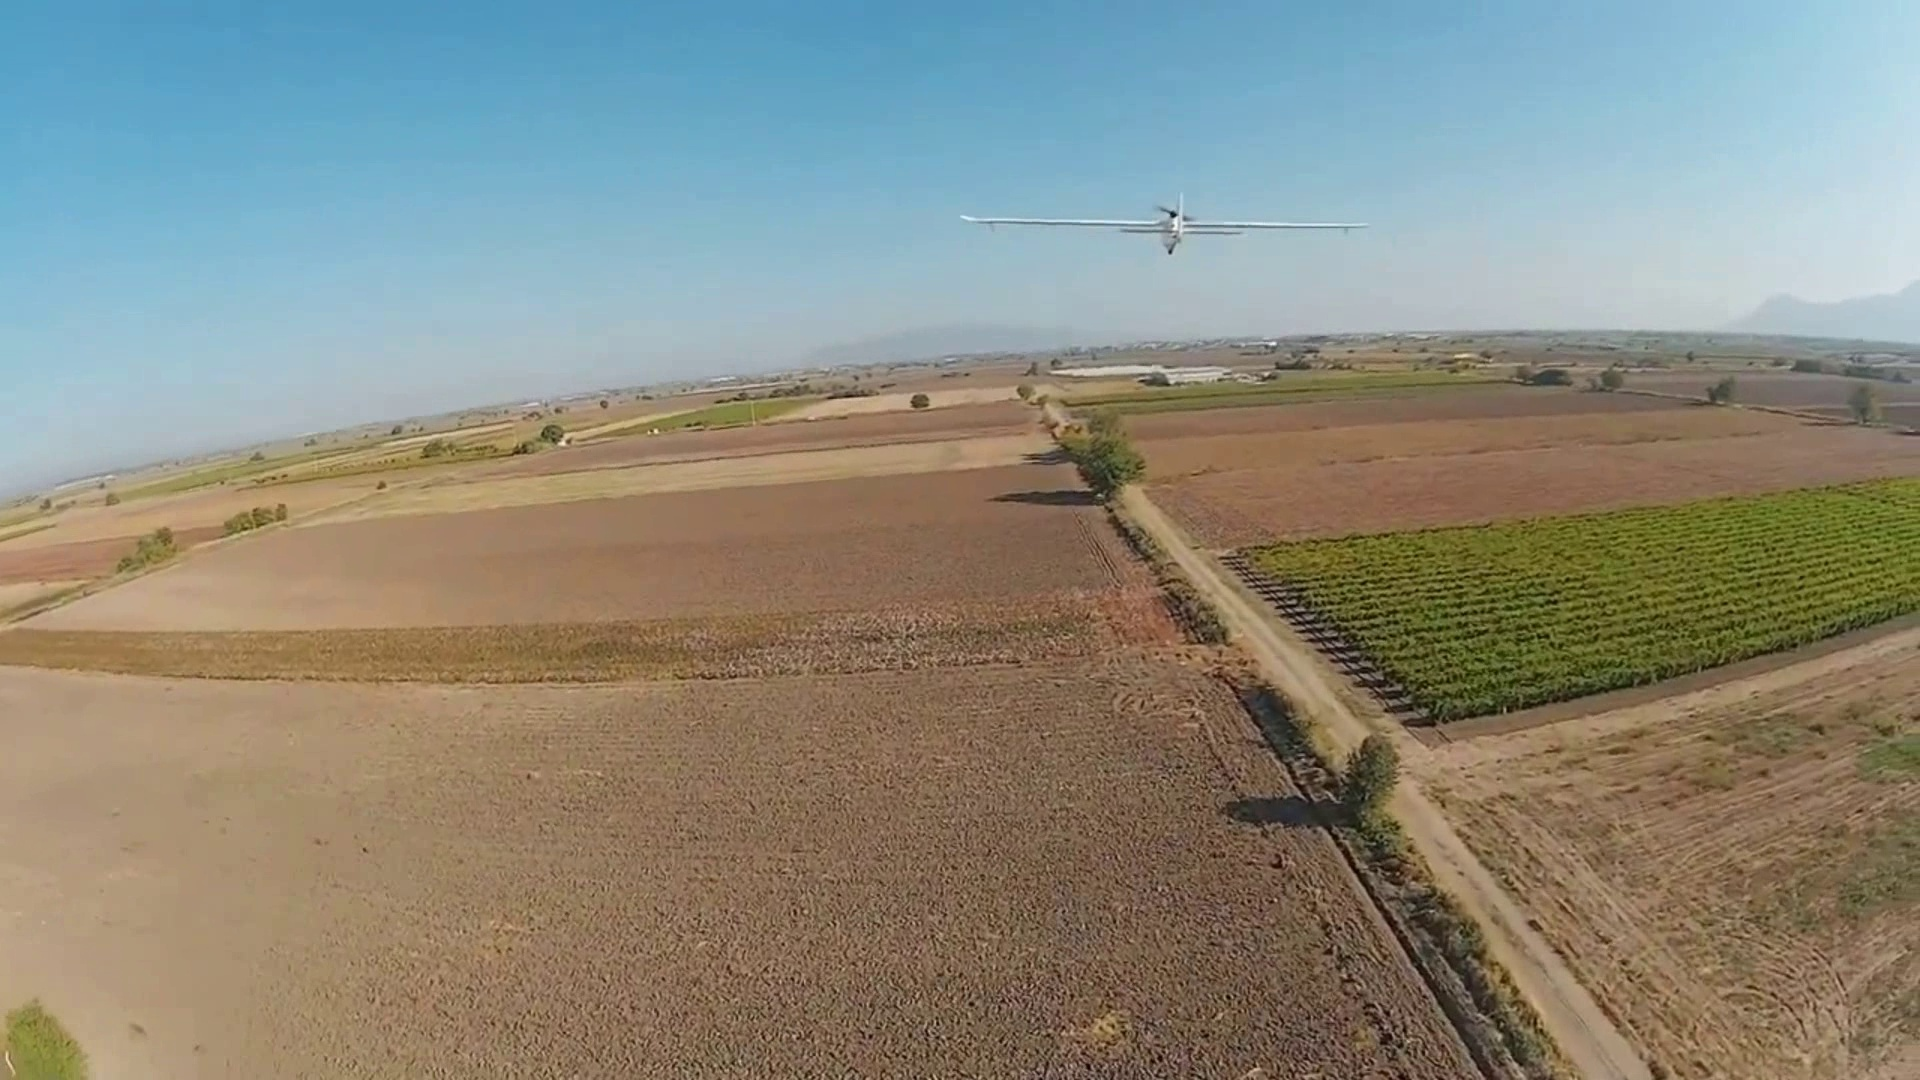airplane: (963, 195, 1367, 252)
